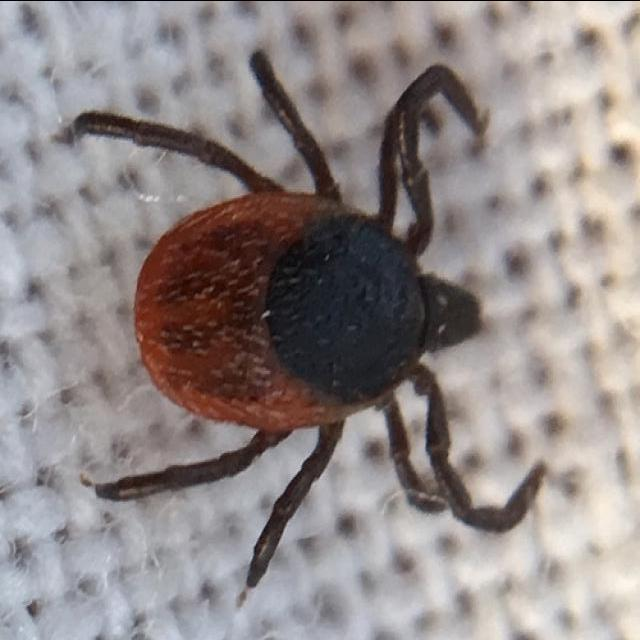Ixodes Ricinus-F: (73, 46, 545, 588)
